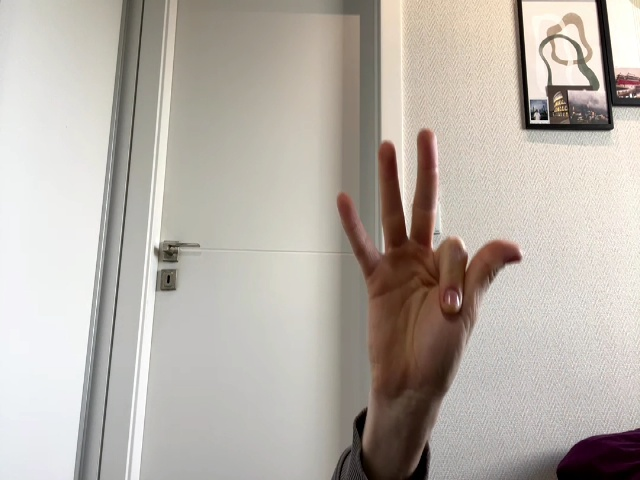F: (338, 129, 524, 405)
